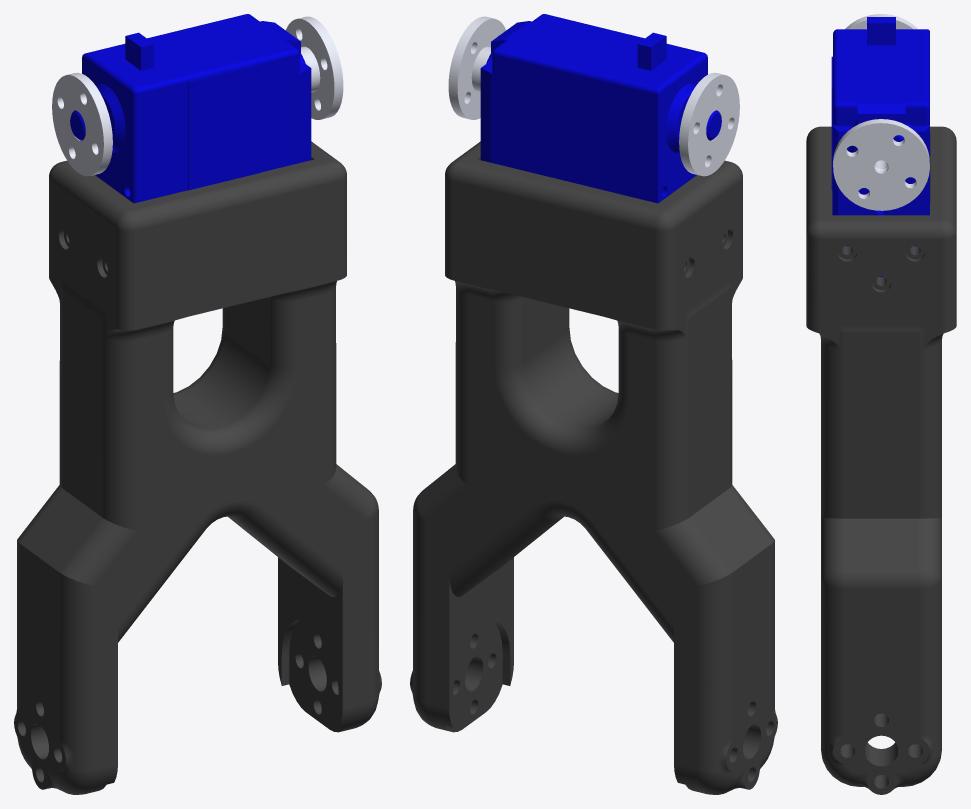
The model's file is elbow.glb.
The picture shows the model from 3 angles, left to right: view 1: azimuth 30°, elevation 25°; view 2: azimuth 150°, elevation 25°; view 3: azimuth 270°, elevation 25°; orthographic projection. The views are drawn at different scales.
Visible parts, largest first — view 1: Fore ARM 0; view 2: Fore ARM 0; view 3: Fore ARM 0.
Part boxes in pixels (x1=…): Fore ARM 0: x1=14, y1=14, x2=381, y2=794; Fore ARM 0: x1=410, y1=14, x2=777, y2=794; Fore ARM 0: x1=806, y1=14, x2=956, y2=794.
Bounding box in the file's own units: 7.03 × 15.4 × 3.1.
